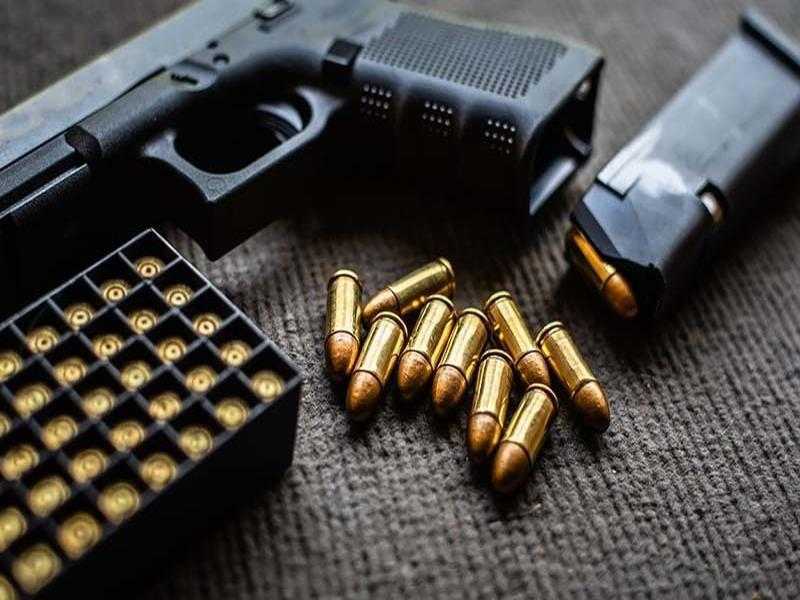GUN: (1, 1, 610, 234)
